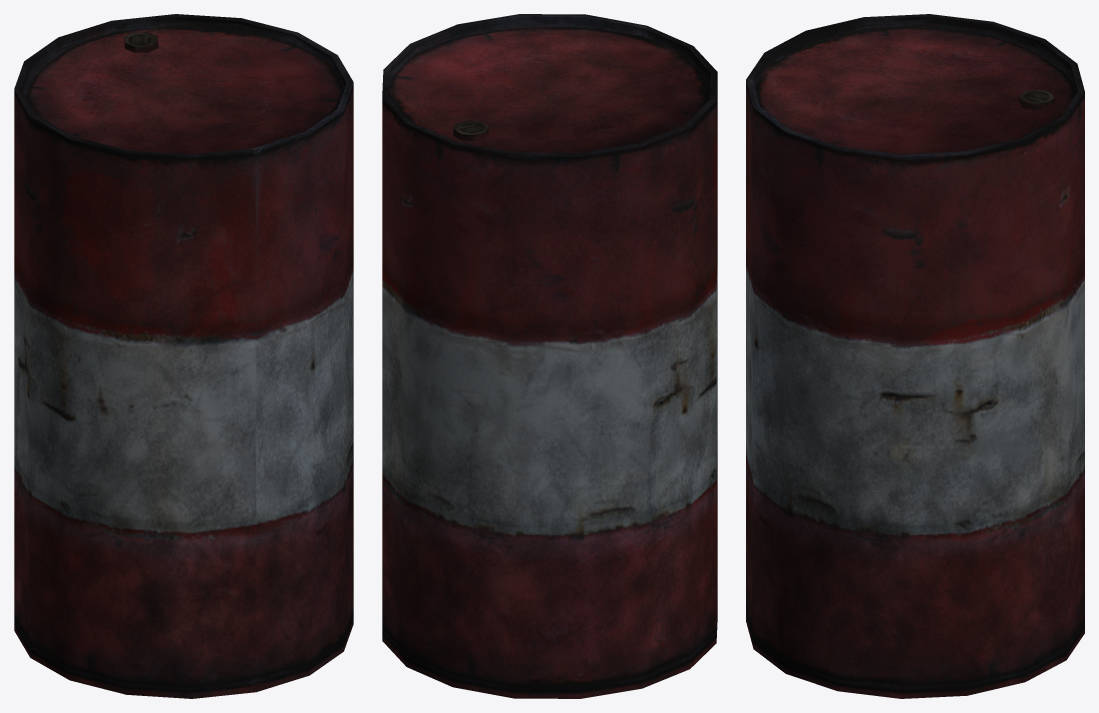
Rendered from drum_oil.FBX.
The picture shows the model from 3 angles, left to right: view 1: azimuth 30°, elevation 25°; view 2: azimuth 150°, elevation 25°; view 3: azimuth 270°, elevation 25°; orthographic projection.
Visible parts, largest first — view 1: Barrel; view 2: Barrel; view 3: Barrel.
Part boxes in pixels (left/top/right/bottom): Barrel: left=14, top=14, right=353, bottom=698; Barrel: left=382, top=14, right=717, bottom=698; Barrel: left=746, top=14, right=1084, bottom=698.
Size of the model in its own units: 2.93 by 5.17 by 2.93.
